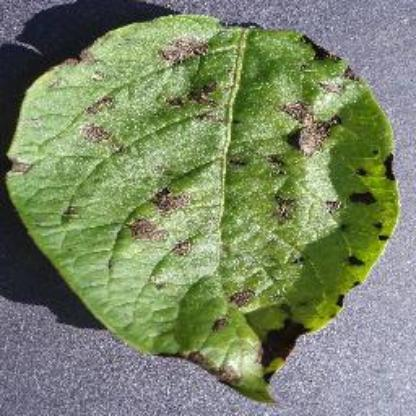Early-Blight: (3, 7, 415, 403)
